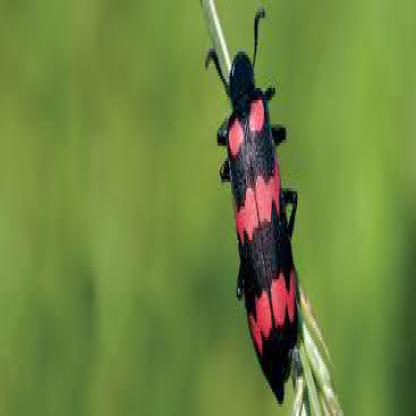blister beetle: (206, 8, 301, 411)
